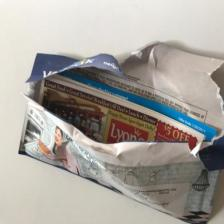paper: (18, 29, 224, 224)
